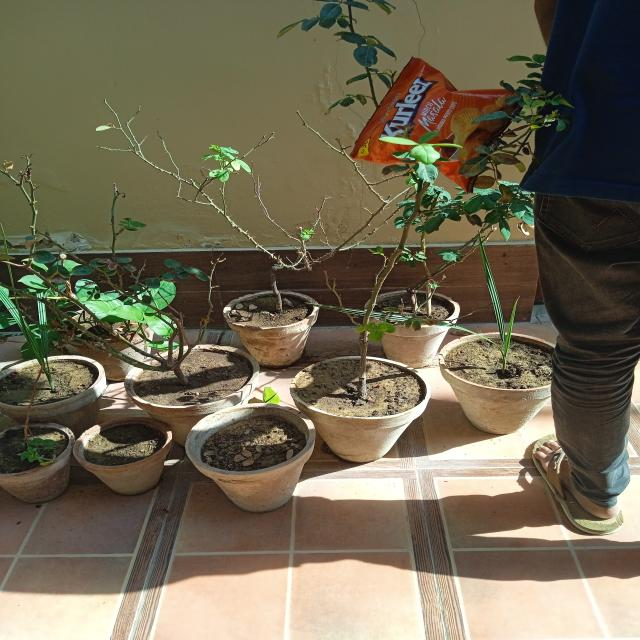Plastic: (347, 56, 527, 192)
